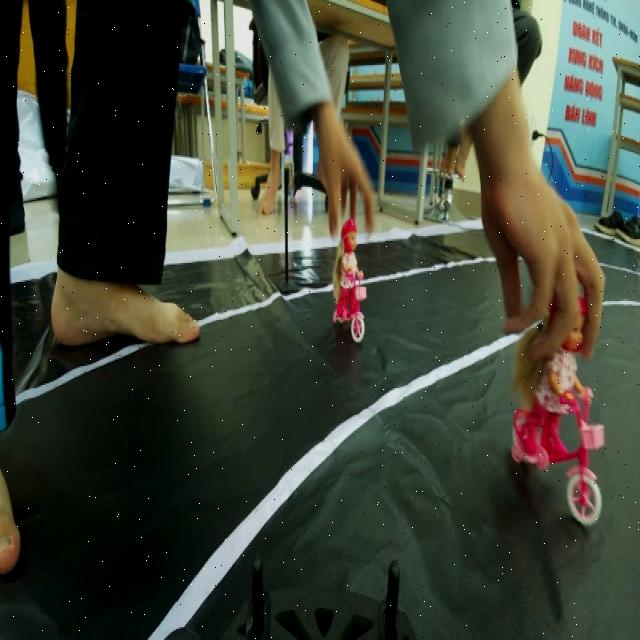pedestrian: (518, 291, 607, 526), (332, 210, 370, 337)
